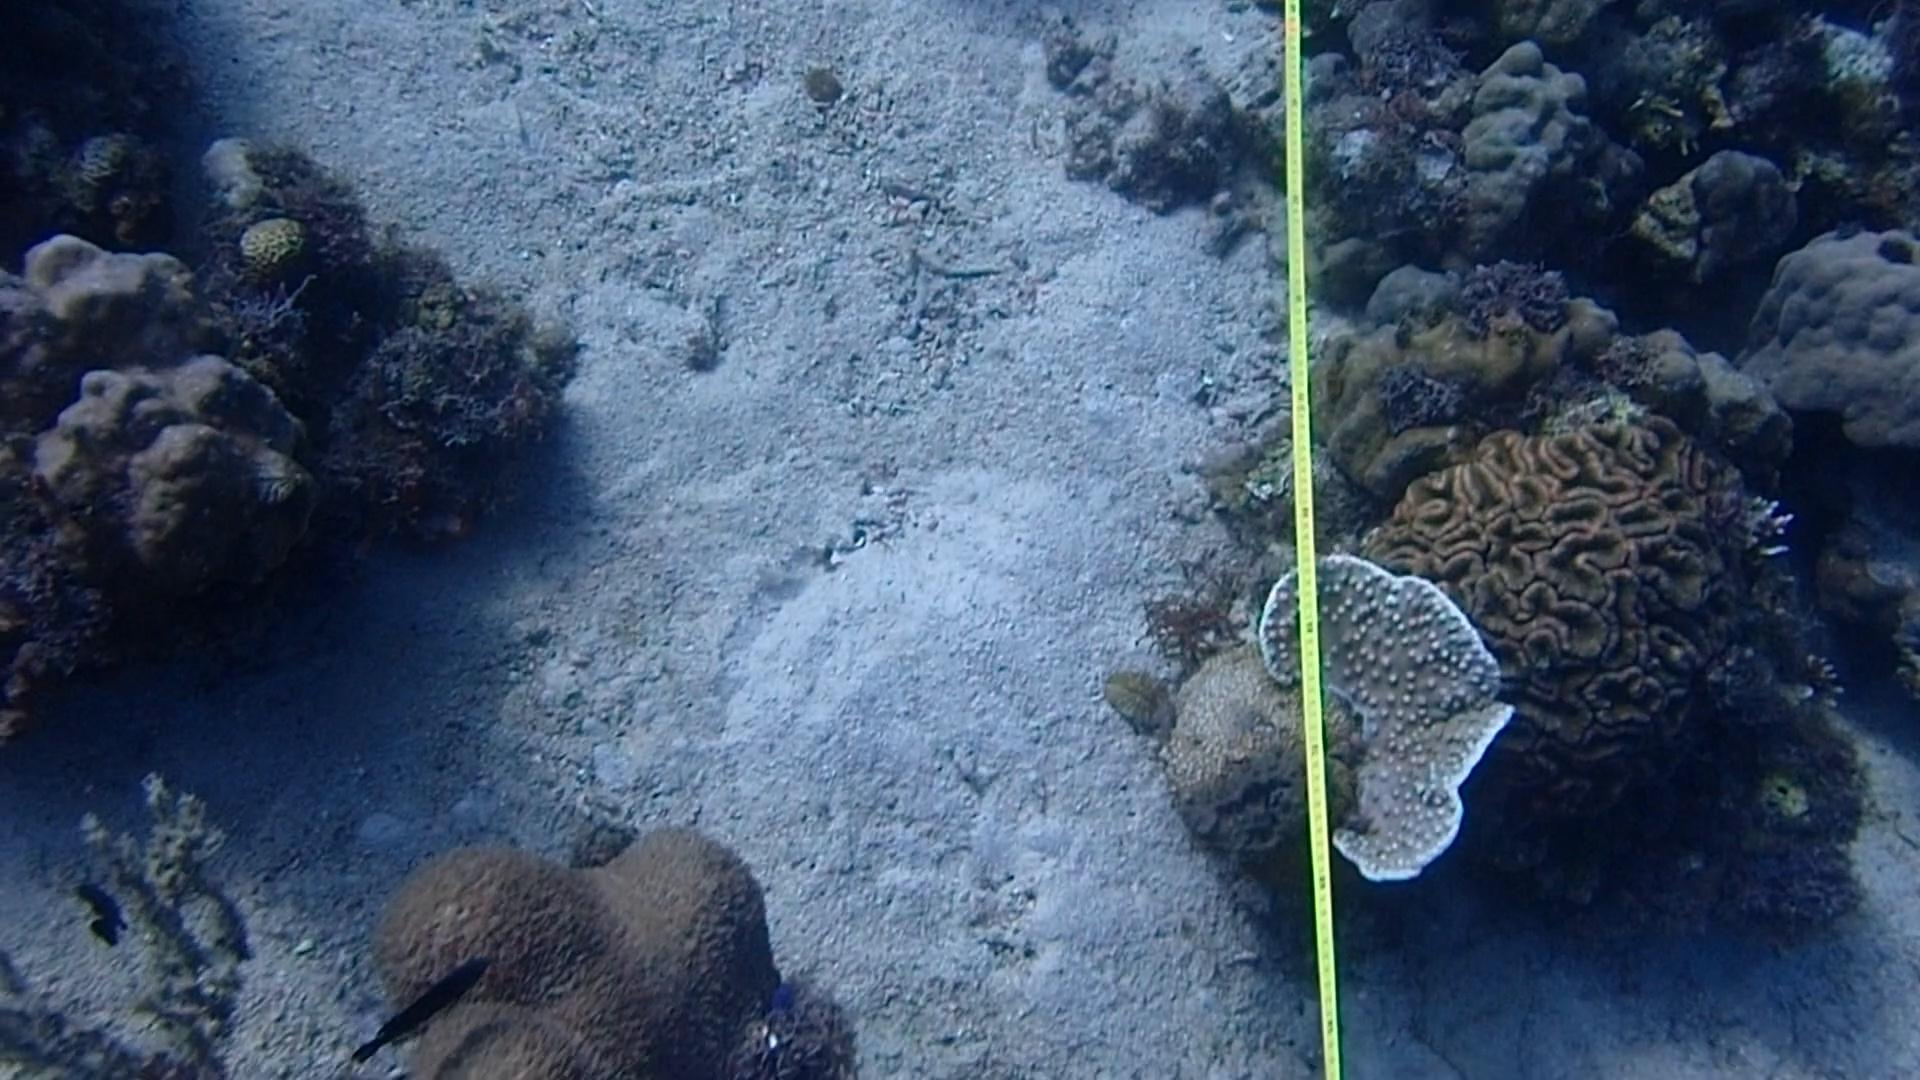Dark Fish: (338, 947, 498, 1075), (51, 860, 142, 967)
